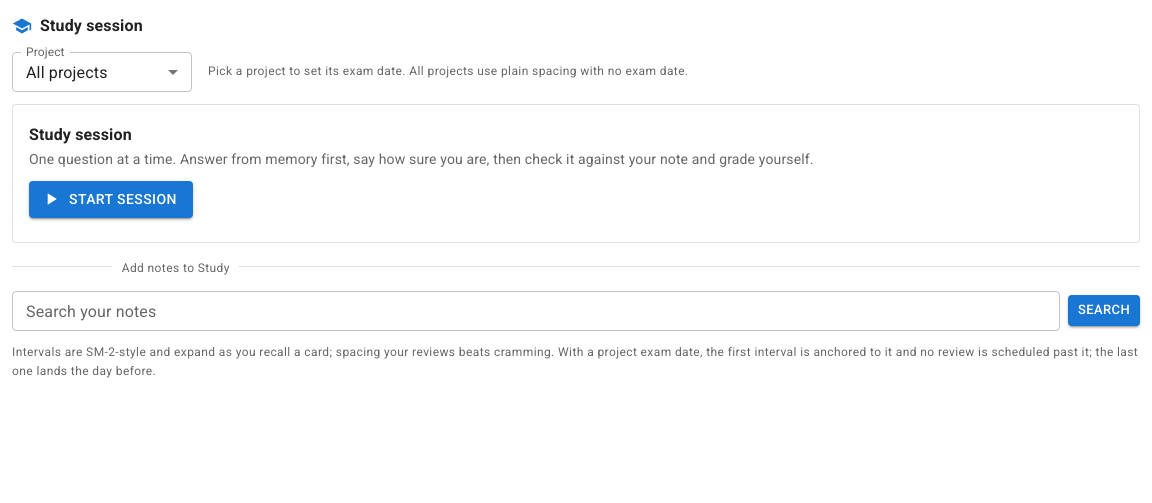
Test: ReviewView › reports how many cards a long note became
This screenshot has width=1152, height=503.
In the field labelled "Search your notes": [536, 310] box [12,290,1060,330], type "cell"
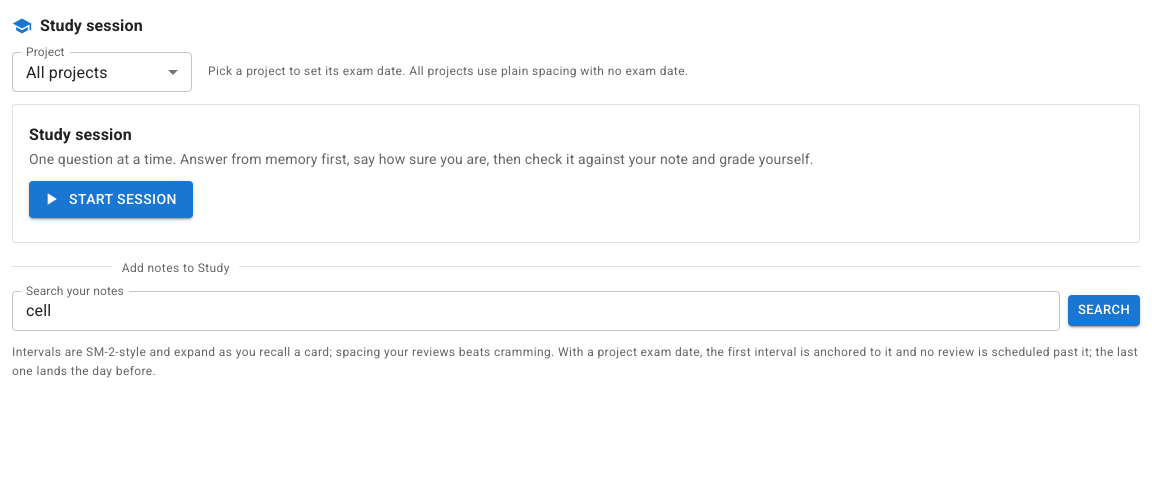
Click the button "Search": [1104, 310] box [1068,295,1140,326]
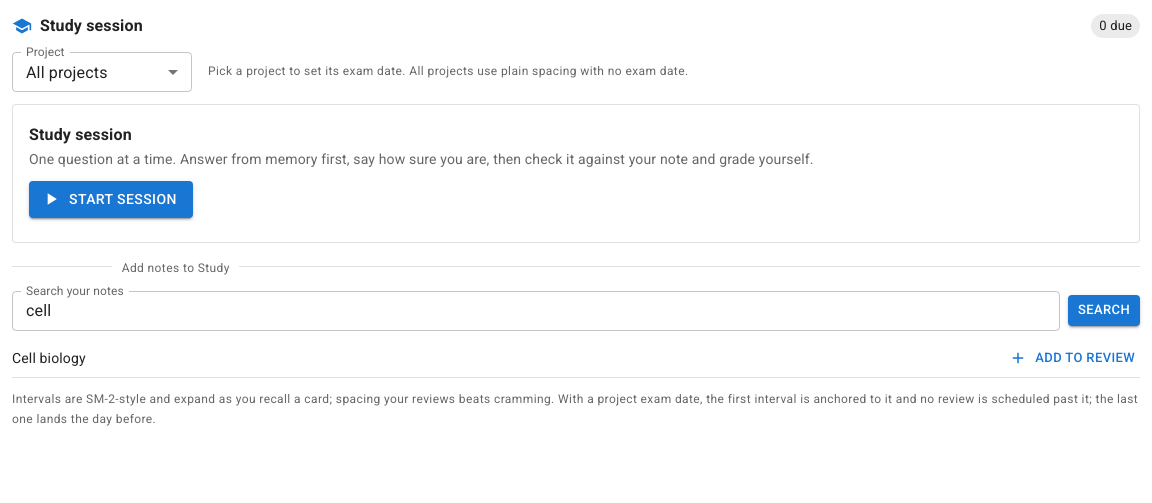
Click the button "Add to review": [1073, 358] box [1006,342,1140,373]
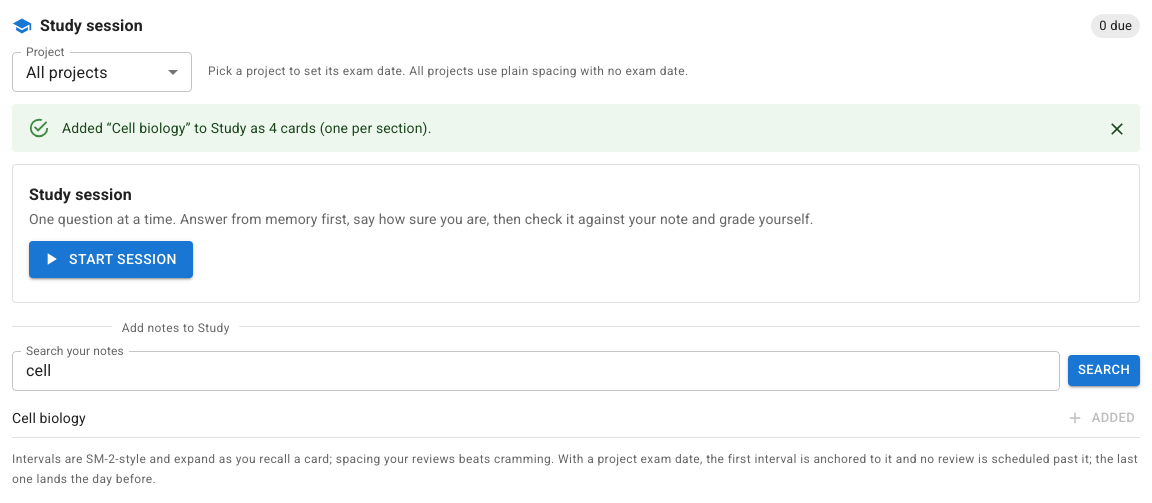
Expected: the text "Added “Cell biology” to Study as 4 cards (one per section)." is shown, [62,120,432,136]
